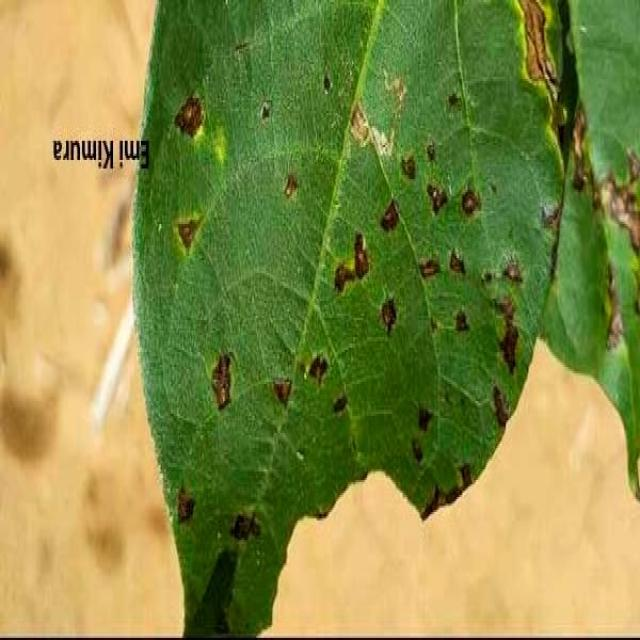Bacterial Blight: (337, 73, 522, 444)
